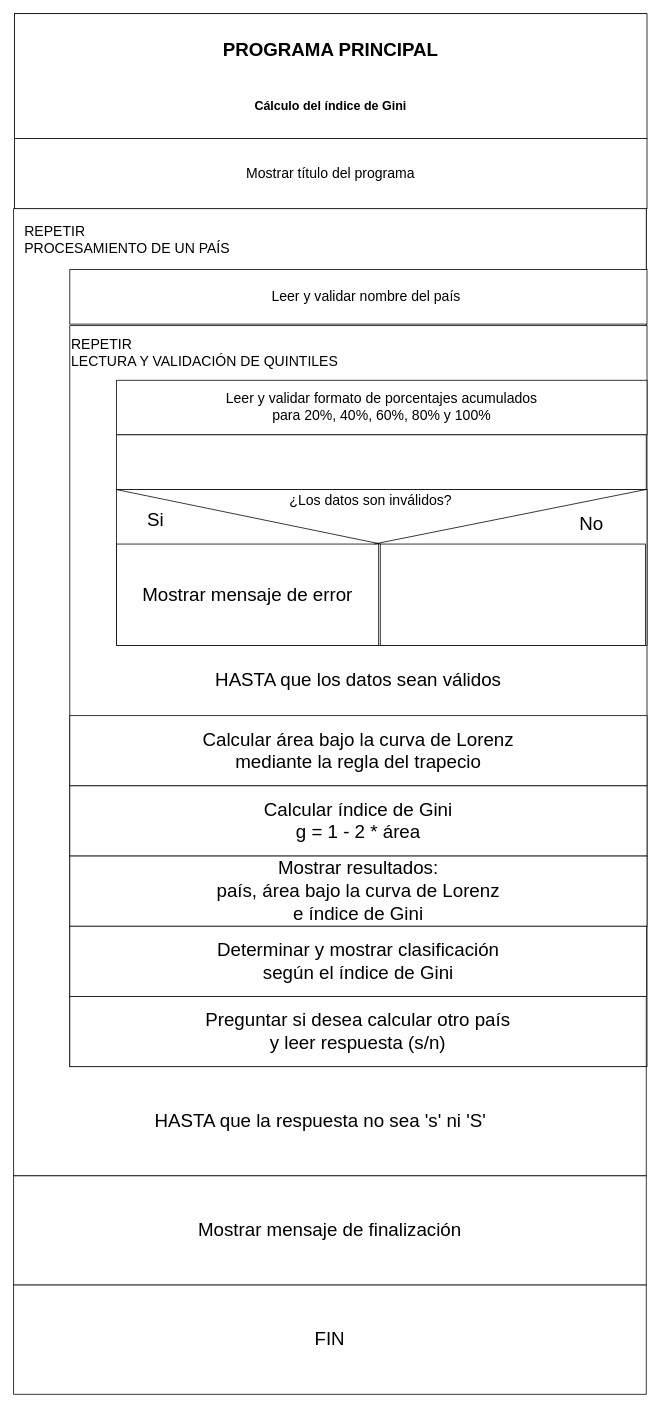
Image size: 661x1408. Some labels were removed from this diagram. Here are the shapes that lost their labels. From the top down, the centre of each, then its label:
point 381,461: Validar ingresos acumulados
point 512,594: Continuar
